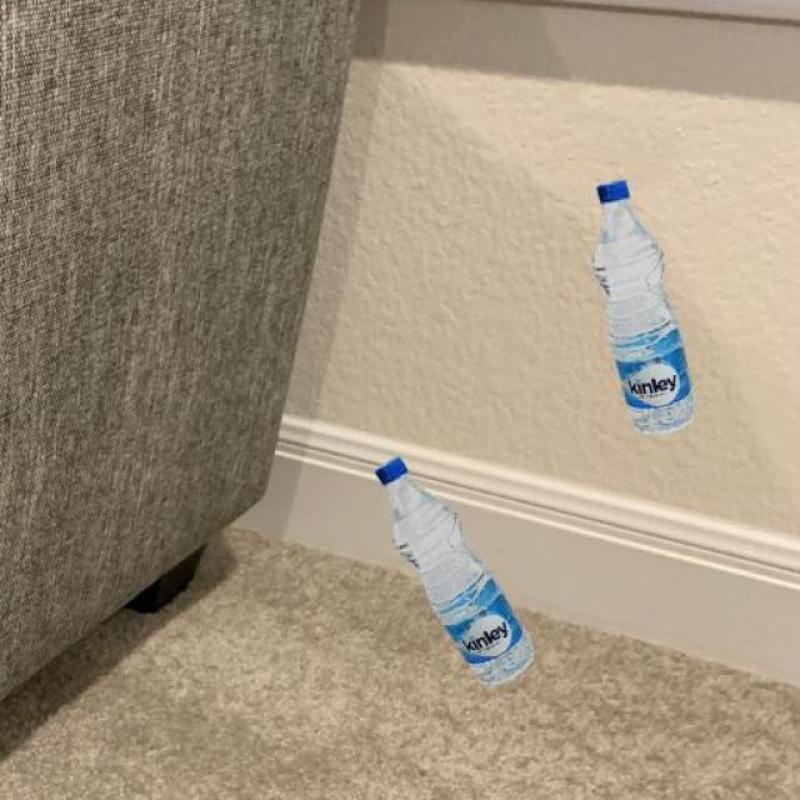botella: (372, 456, 538, 686), (590, 176, 696, 436)
